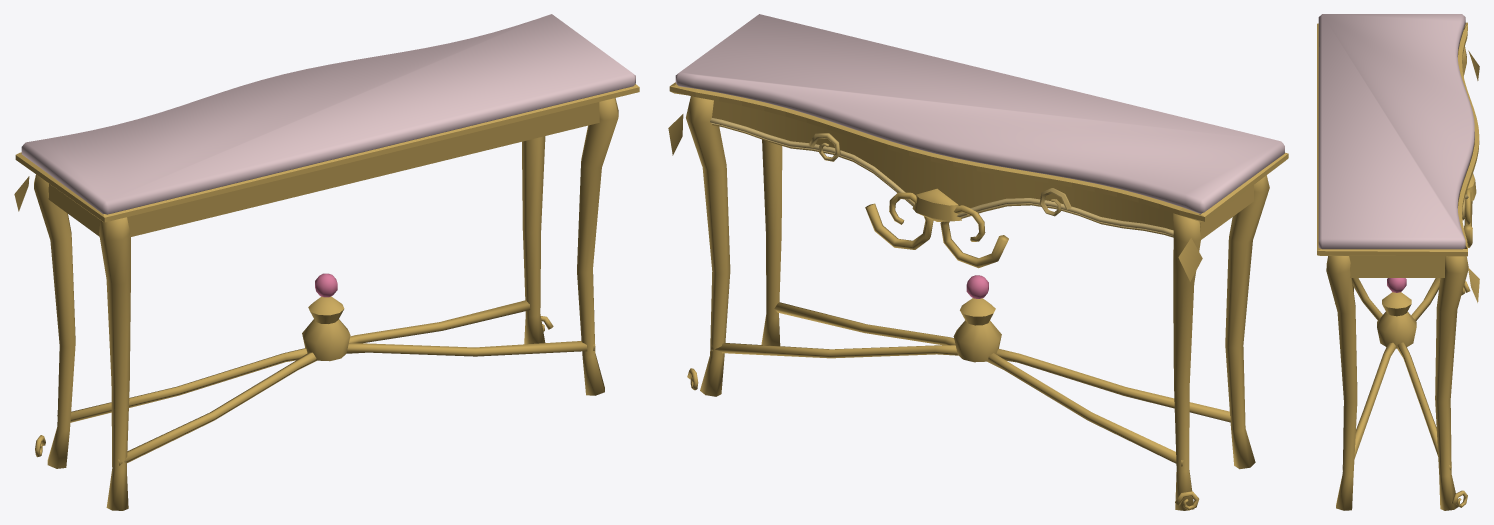
File: console_gilt.glb
3 renders of one model, left to right at view 1: azimuth 30°, elevation 25°; view 2: azimuth 150°, elevation 25°; view 3: azimuth 270°, elevation 25°, orthographic. The views are drawn at different scales.
Parts seen in each view (by area): view 1: console_gilt; view 2: console_gilt; view 3: console_gilt.
Boxes of the visible parts, bbox=[...] form: console_gilt: bbox=[14, 14, 639, 510]; console_gilt: bbox=[668, 14, 1288, 510]; console_gilt: bbox=[1317, 14, 1479, 510].
Size of what is drawn, in the model's own units: 1.5 by 0.86 by 0.45.
